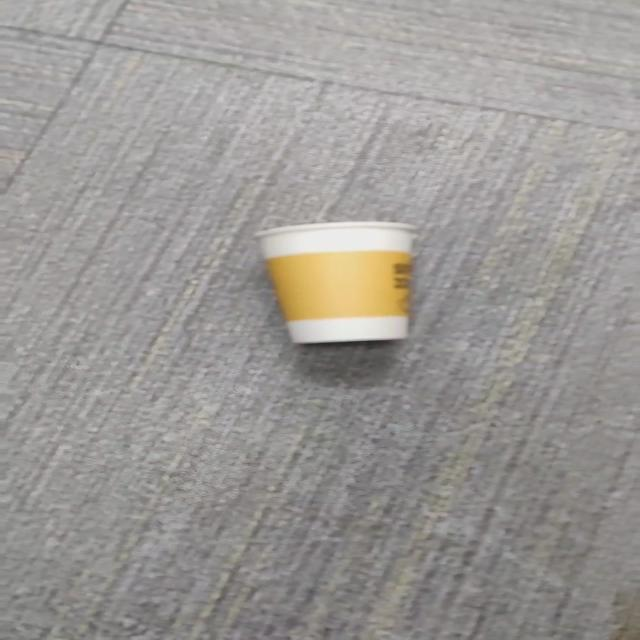dixie_cup: (259, 222, 413, 344)
